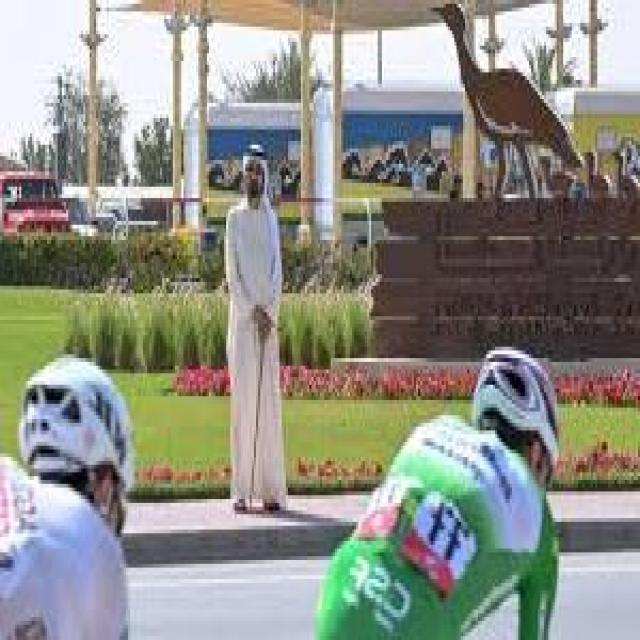reflective_jacket: (285, 407, 578, 639)
safety_helmet: (294, 407, 575, 639), (3, 343, 147, 507), (461, 327, 574, 476)
